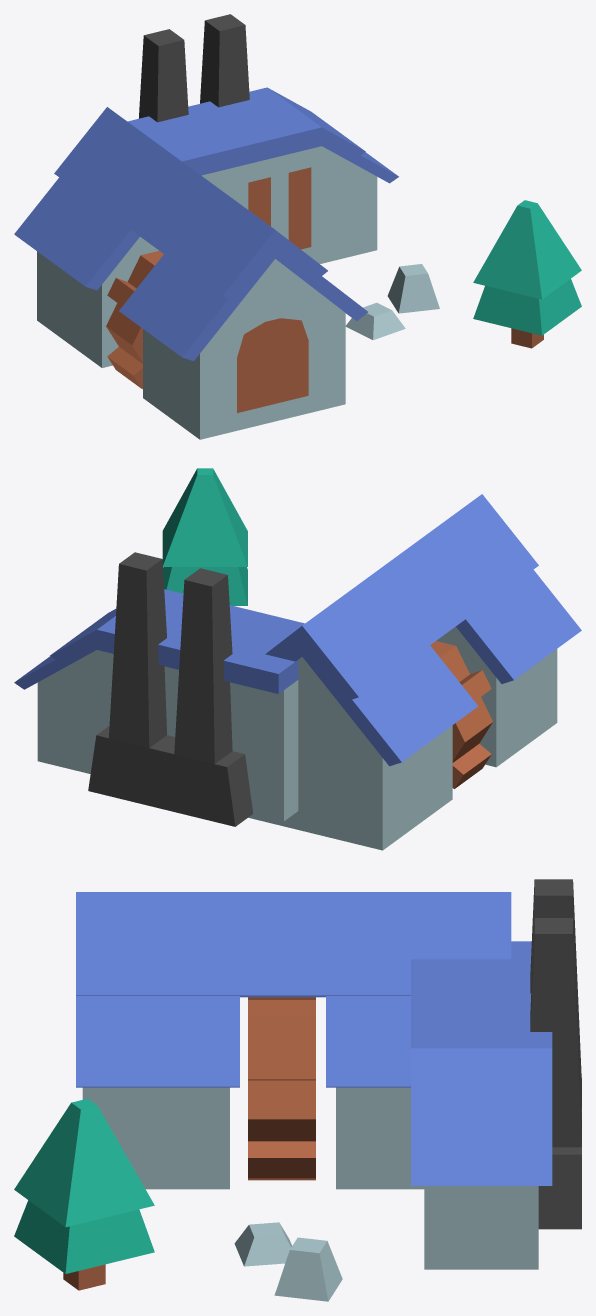
The model's file is Papermill.fbx.
The picture shows the model from 3 angles, top to bottom: view 1: azimuth 30°, elevation 25°; view 2: azimuth 150°, elevation 25°; view 3: azimuth 270°, elevation 25°; orthographic projection. The views are drawn at different scales.
Parts seen in each view (by area): view 1: Group1, Group2, OuterShell, Group3, Group4; view 2: Group1, OuterShell, Group2, Group4; view 3: Group1, Group2, OuterShell, Group4, Group3.
Boxes of the visible parts, bbox=[...] form: Group1: bbox=[14, 87, 398, 439]; Group2: bbox=[473, 200, 581, 348]; OuterShell: bbox=[139, 14, 249, 122]; Group3: bbox=[345, 264, 439, 340]; Group4: bbox=[106, 250, 163, 388]; Group1: bbox=[14, 494, 581, 850]; OuterShell: bbox=[88, 552, 253, 826]; Group2: bbox=[162, 468, 247, 605]; Group4: bbox=[430, 641, 492, 788]; Group1: bbox=[76, 892, 552, 1269]; Group2: bbox=[14, 1098, 154, 1290]; OuterShell: bbox=[530, 879, 581, 1229]; Group4: bbox=[248, 997, 315, 1180]; Group3: bbox=[234, 1222, 342, 1301].
Bounding box in the file's own units: 0.883 × 0.5575 × 0.8479.
